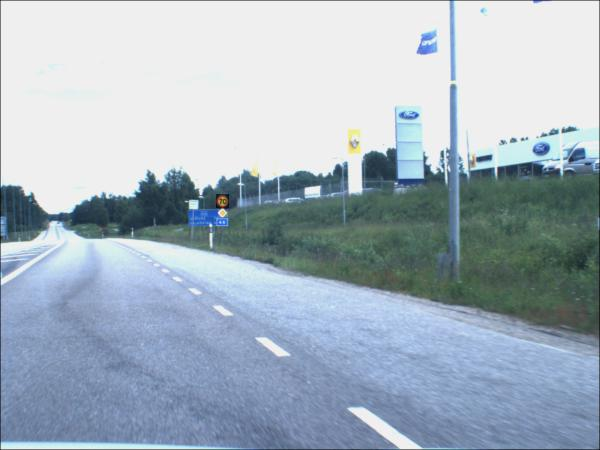70_SIGN: (217, 195, 231, 210)
PRIORITY_ROAD: (219, 210, 230, 220)
